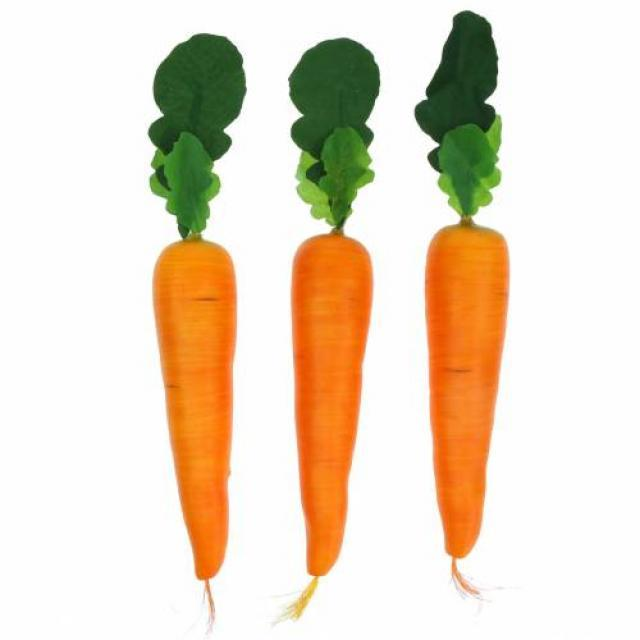Carrot: (428, 222, 518, 596), (149, 240, 246, 586), (295, 235, 377, 582)
